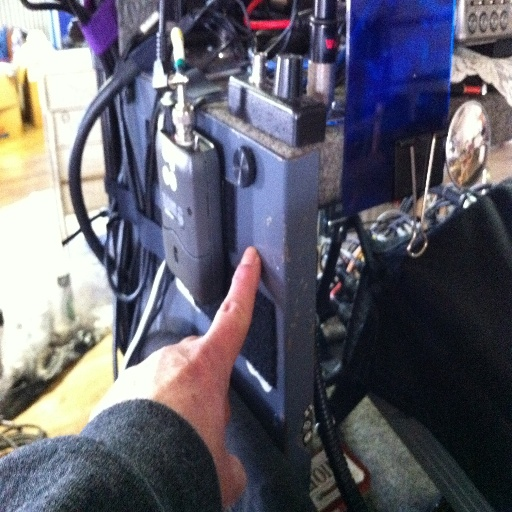hand: (122, 253, 279, 474)
